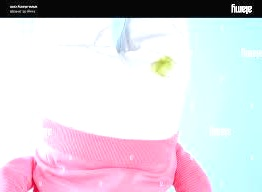earth: (150, 56, 173, 77)
